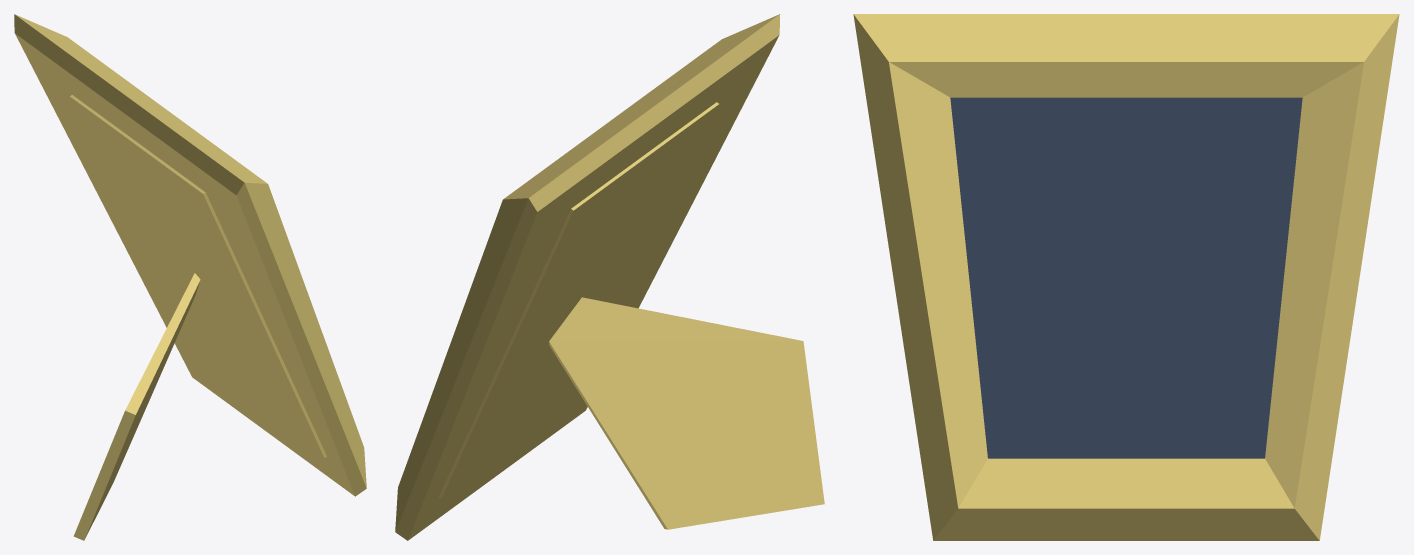
Rendered from picture_frame.fbx.
3 views of the same model, side by side, from view 1: azimuth 30°, elevation 25°; view 2: azimuth 150°, elevation 25°; view 3: azimuth 270°, elevation 25° (orthographic). The views are drawn at different scales.
Parts seen in each view (by area): view 1: Cube, Plane.001; view 2: Cube, Plane.001; view 3: Cube.
Boxes of the visible parts, x1=… form: Cube: x1=14, y1=14, x2=366, y2=496; Plane.001: x1=73, y1=273, x2=200, y2=540; Cube: x1=395, y1=14, x2=780, y2=540; Plane.001: x1=549, y1=297, x2=824, y2=529; Cube: x1=853, y1=14, x2=1399, y2=540.
Bounding box in the file's own units: 191 × 259 × 283.
